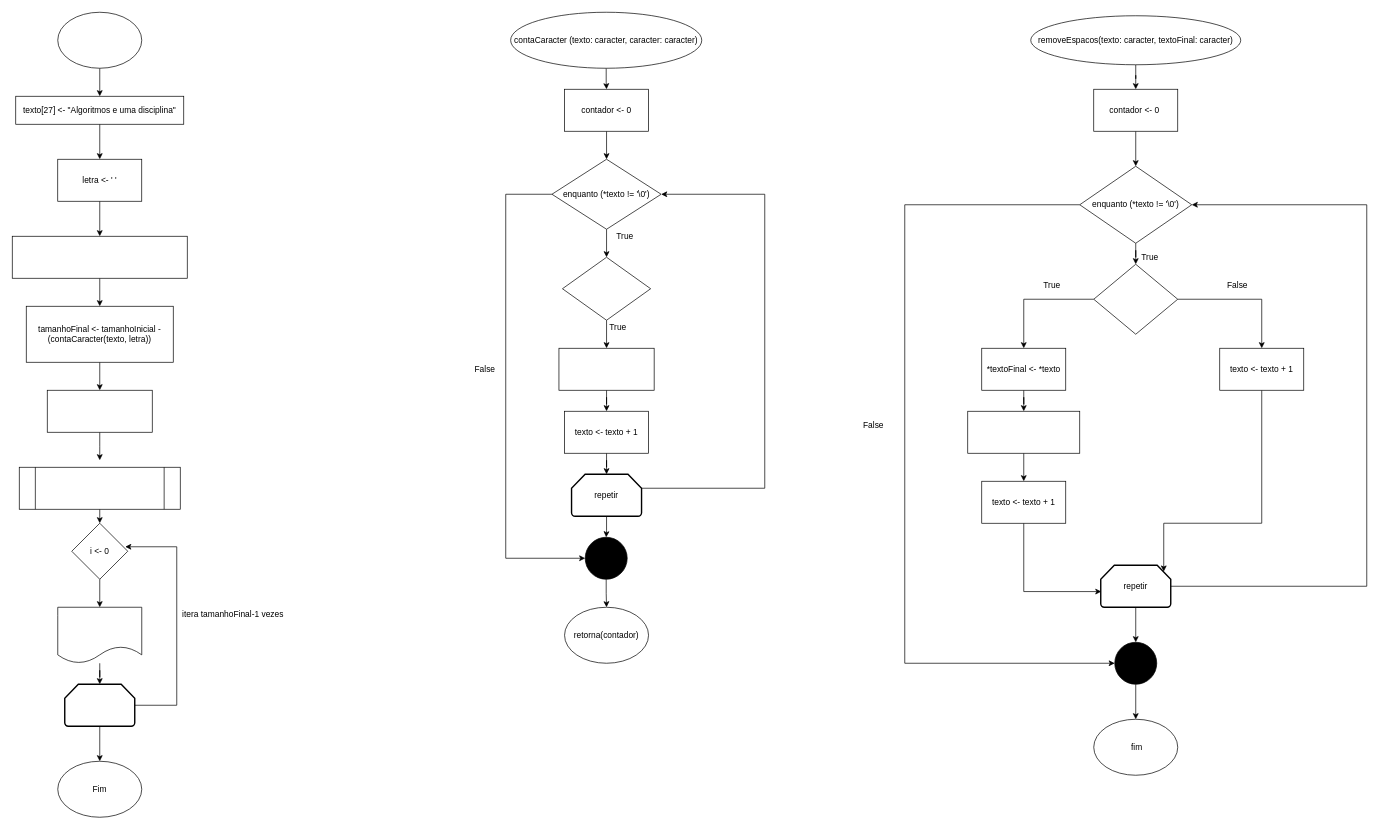
Image size: 1385x830. Some labels were removed from this diagram. Here are the shapes that lost their labels. From the top down, the box of each, then its label:
(57, 12, 142, 68): Inicio
(12, 236, 187, 278): tamanhoInicial <- sizeof(texto) / sizeof(char)
(562, 257, 651, 320): se(*texto = caracter)
(1093, 264, 1178, 334): se (*texto != ' ')
(558, 348, 654, 390): contador <- contador + 1
(47, 390, 152, 432): textoFinal[tamanhoFinal]
(967, 411, 1080, 453): textoFinal <- textoFinal + 1
(19, 467, 180, 509): removeEspacos(texto, textoFinal)
(57, 607, 142, 663): escrever(textoFinal[i])
(64, 683, 135, 727): fim-para-fazer
